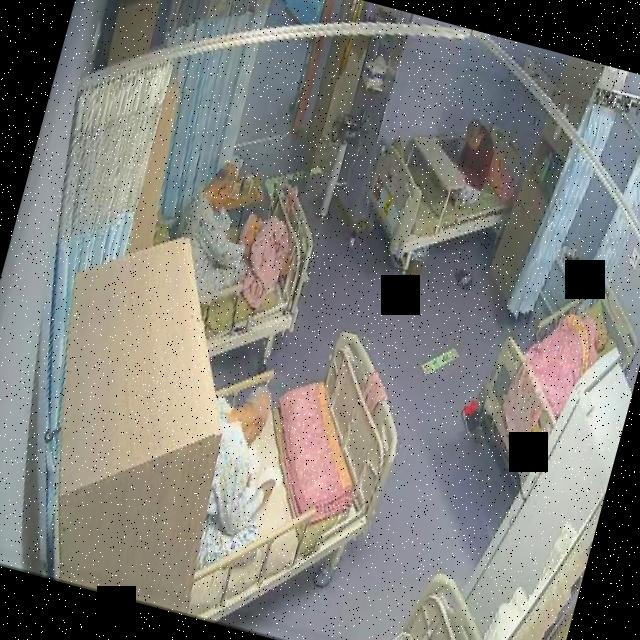bed: (173, 307, 423, 640), (459, 255, 640, 507), (158, 161, 328, 378), (352, 96, 528, 282)
patient: (177, 378, 297, 588), (162, 155, 312, 319), (440, 114, 503, 213)
sit: (177, 372, 296, 580), (165, 158, 311, 316), (440, 112, 504, 212)
